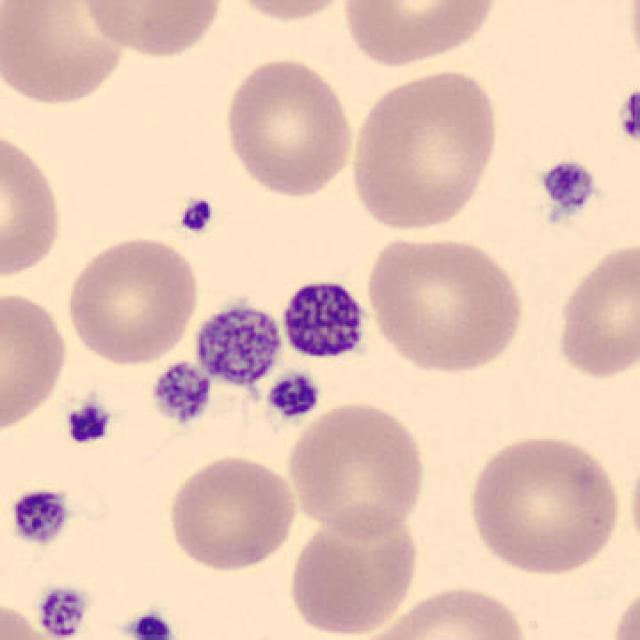Platelets: (190, 298, 286, 390), (278, 274, 372, 362), (148, 358, 214, 427), (535, 157, 601, 220), (7, 485, 73, 546), (34, 582, 90, 640), (263, 371, 324, 422), (62, 398, 114, 448), (176, 194, 217, 236), (613, 85, 640, 148), (126, 610, 176, 640)
RBC: (345, 64, 503, 235), (363, 231, 528, 377), (462, 430, 624, 578), (283, 396, 430, 540), (219, 53, 357, 199), (62, 231, 203, 367), (285, 502, 423, 638), (164, 451, 300, 573), (0, 0, 133, 111), (551, 238, 638, 383), (340, 0, 503, 69), (0, 125, 68, 286), (0, 288, 71, 436), (356, 582, 534, 640), (73, 0, 227, 60), (217, 0, 366, 25), (36, 584, 90, 638), (0, 596, 52, 640), (606, 575, 638, 640), (626, 434, 640, 571)
